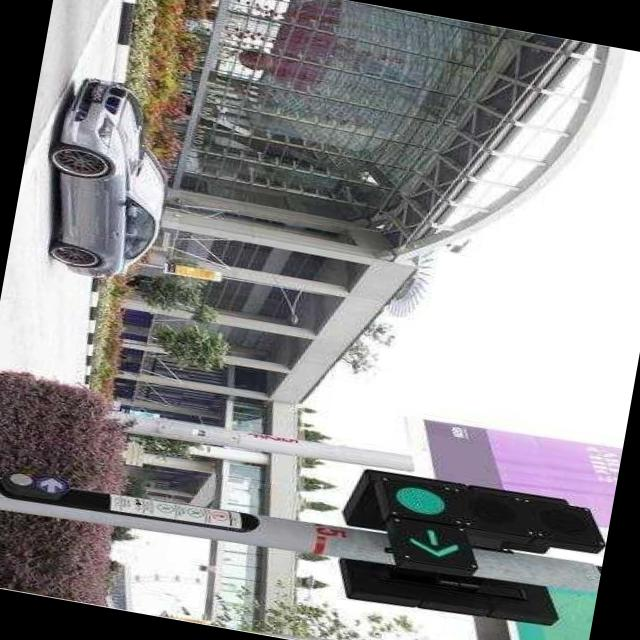green-lights: (356, 466, 455, 527)
